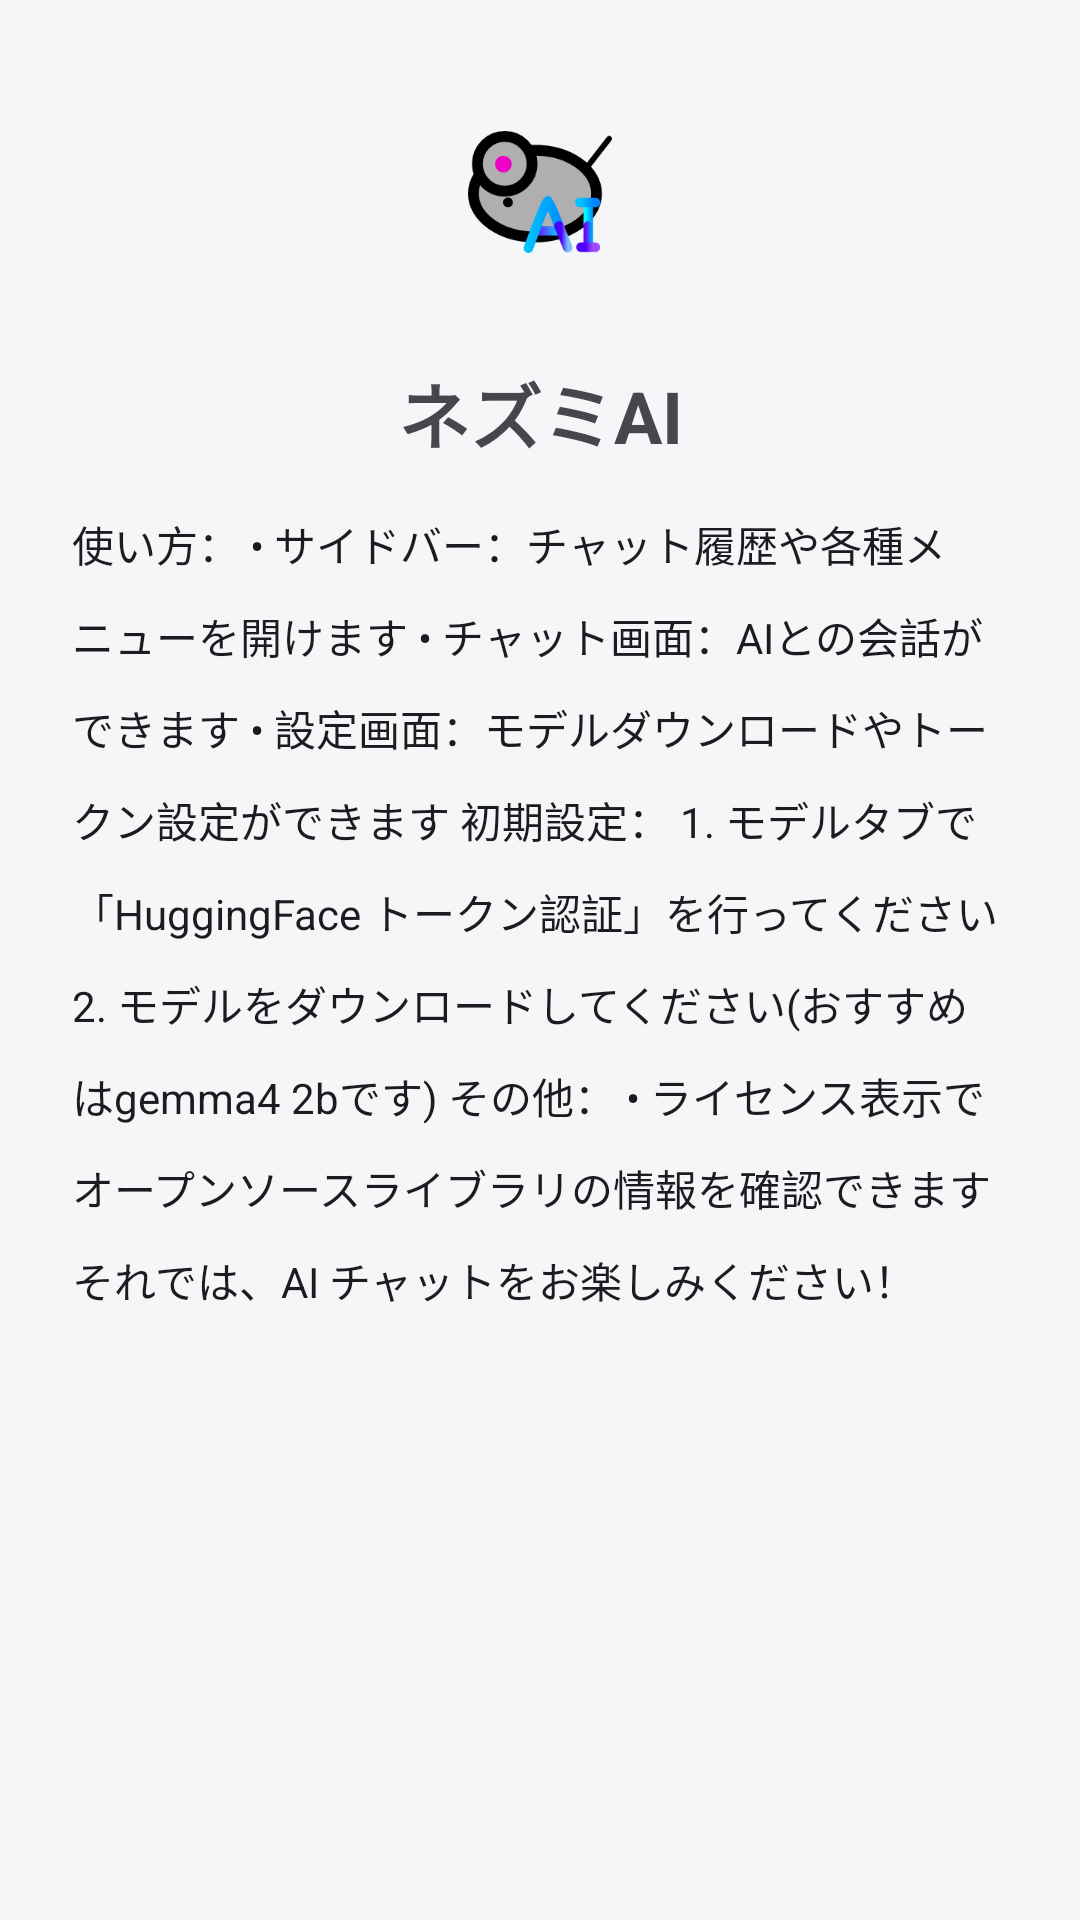

Named icons in this screenshot (1080x1920) and their centers, [x,y]:
nezumi ai: [540,192]
